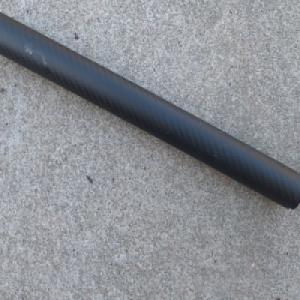LuggagePart: (0, 9, 300, 209)
